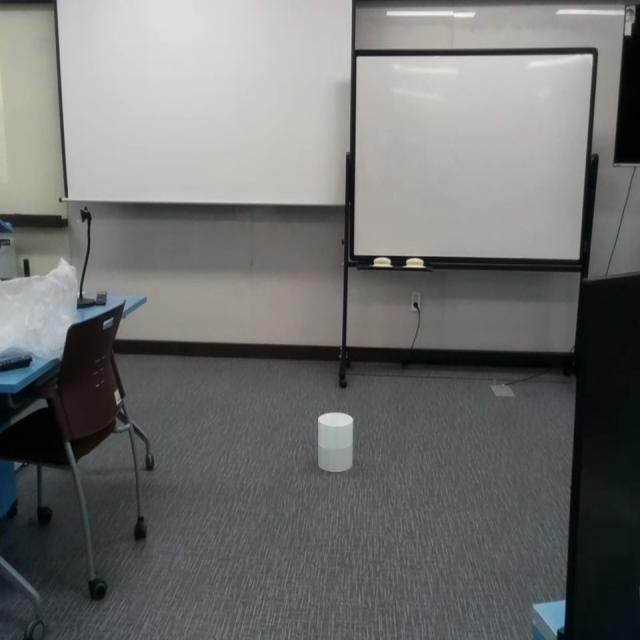cylinder: (317, 412, 354, 473)
